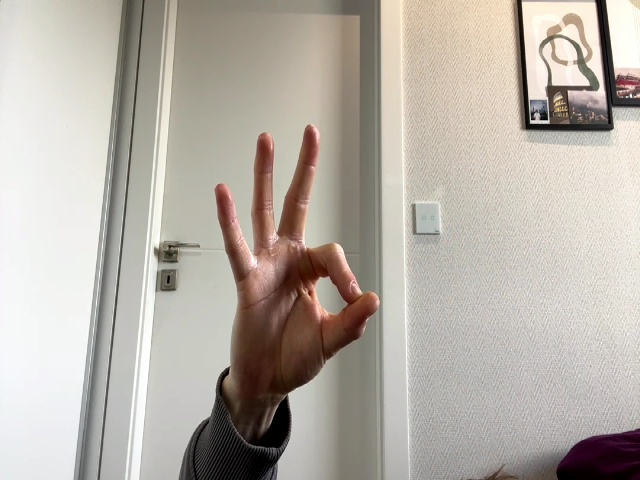O: (214, 125, 380, 386)
